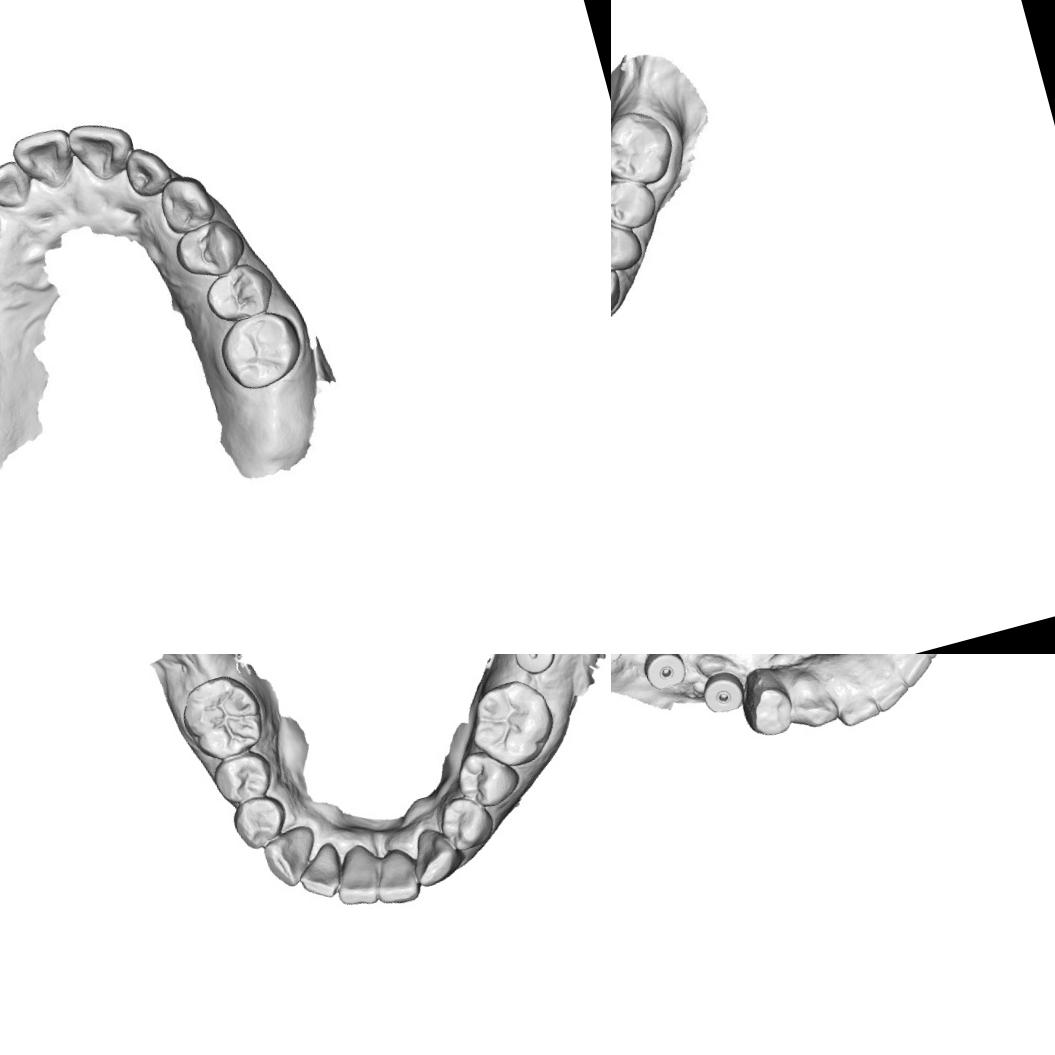canine: (146, 170, 221, 241), (258, 822, 325, 892), (780, 658, 838, 735), (404, 820, 466, 890), (611, 257, 627, 319)
implant: (699, 670, 744, 715), (639, 654, 684, 692), (507, 654, 559, 679)
incisor: (62, 111, 141, 188), (6, 124, 79, 197), (325, 840, 386, 913), (365, 844, 424, 910), (290, 838, 348, 904), (118, 138, 175, 202), (832, 684, 880, 730), (866, 664, 911, 711), (0, 155, 32, 215), (887, 654, 937, 692)
molar: (459, 672, 564, 776), (173, 666, 272, 768), (212, 305, 310, 395), (611, 101, 680, 194)
premolar: (198, 256, 280, 327), (450, 741, 526, 814), (170, 213, 248, 284), (736, 666, 798, 744), (205, 746, 278, 810), (432, 788, 500, 856), (226, 790, 294, 854), (611, 170, 659, 235), (611, 213, 647, 277)
